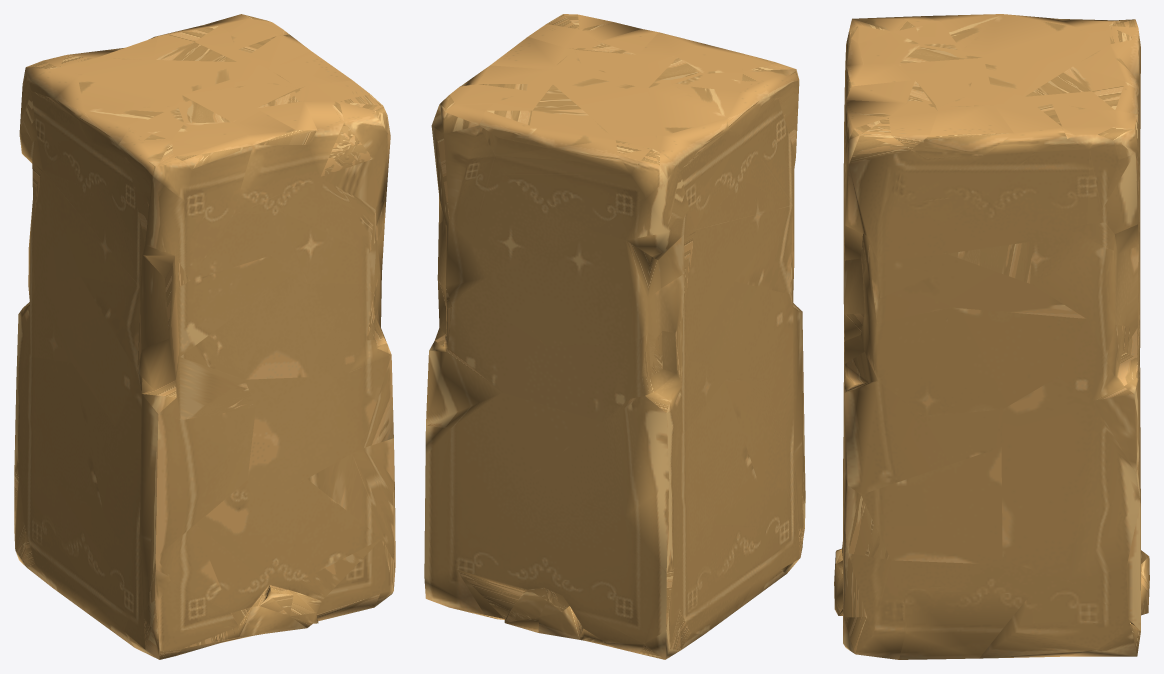
File: cover_full_temple_v1_lod1.glb
3 views of the same model, side by side, from view 1: azimuth 30°, elevation 25°; view 2: azimuth 150°, elevation 25°; view 3: azimuth 270°, elevation 25° (orthographic). The views are drawn at different scales.
Size of the model in its own units: 0.9508 by 1.84 by 1.
1 material, 1 textured.
